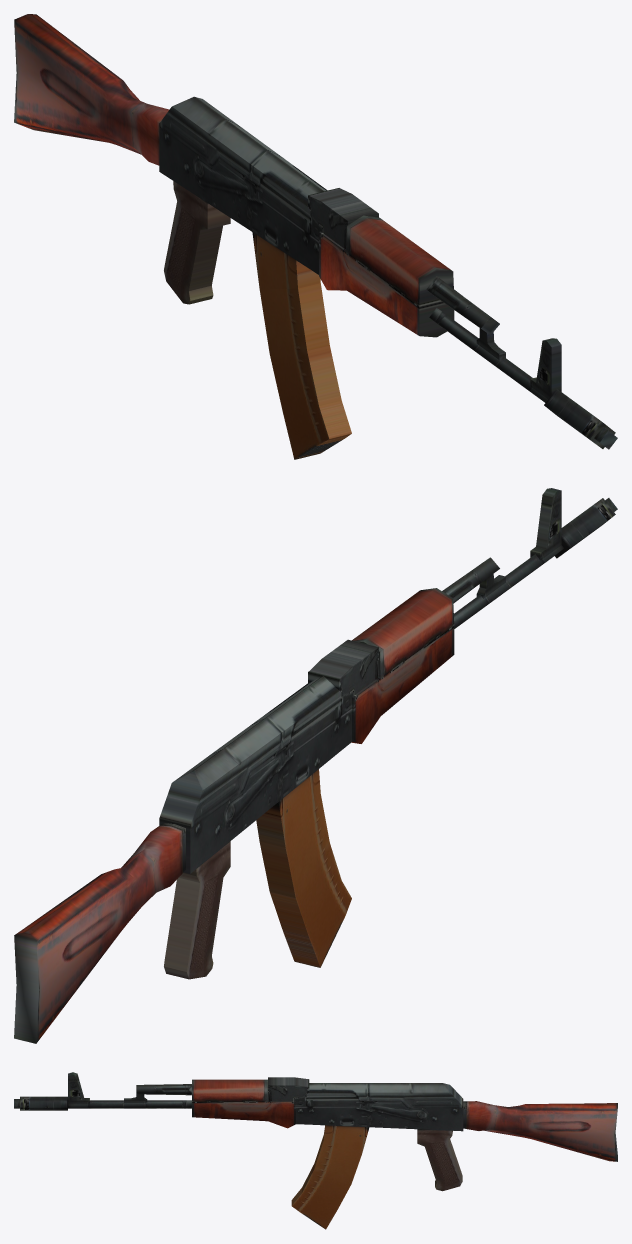
3 views of the same model, one above another, from view 1: azimuth 30°, elevation 25°; view 2: azimuth 150°, elevation 25°; view 3: azimuth 270°, elevation 25° (orthographic). The views are drawn at different scales.
Visible parts, largest first — view 1: AK; view 2: AK; view 3: AK.
Boxes of the visible parts, bbox=[...] form: AK: bbox=[14, 14, 617, 459]; AK: bbox=[14, 488, 617, 1043]; AK: bbox=[14, 1072, 617, 1229].
Bounding box in the file's own units: 1.2 × 34.86 × 9.74.
